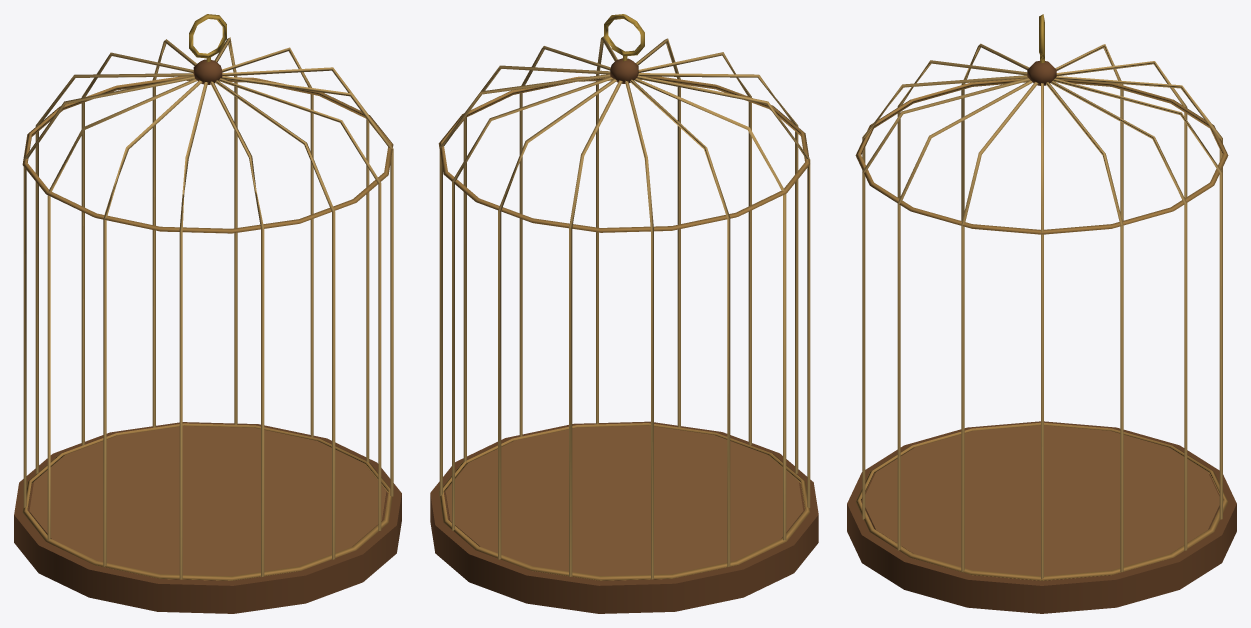
File: long_tre_nhe.glb
3 views of the same model, side by side, from view 1: azimuth 30°, elevation 25°; view 2: azimuth 150°, elevation 25°; view 3: azimuth 270°, elevation 25° (orthographic).
Visible parts, largest first — view 1: long_tre_nhe; view 2: long_tre_nhe; view 3: long_tre_nhe.
Part boxes in pixels (bbox=[...]): long_tre_nhe: bbox=[14, 14, 401, 613]; long_tre_nhe: bbox=[430, 14, 818, 613]; long_tre_nhe: bbox=[847, 14, 1236, 613].
Bounding box in the file's own units: 0.404 × 0.5898 × 0.404.
